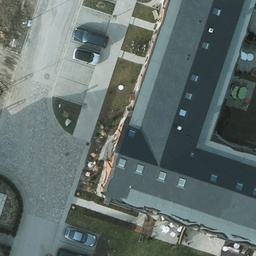car: (64, 228, 96, 247), (75, 29, 108, 46), (72, 48, 101, 66)
